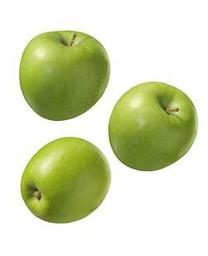apple: (18, 30, 110, 120), (108, 81, 198, 171), (20, 136, 112, 223)
